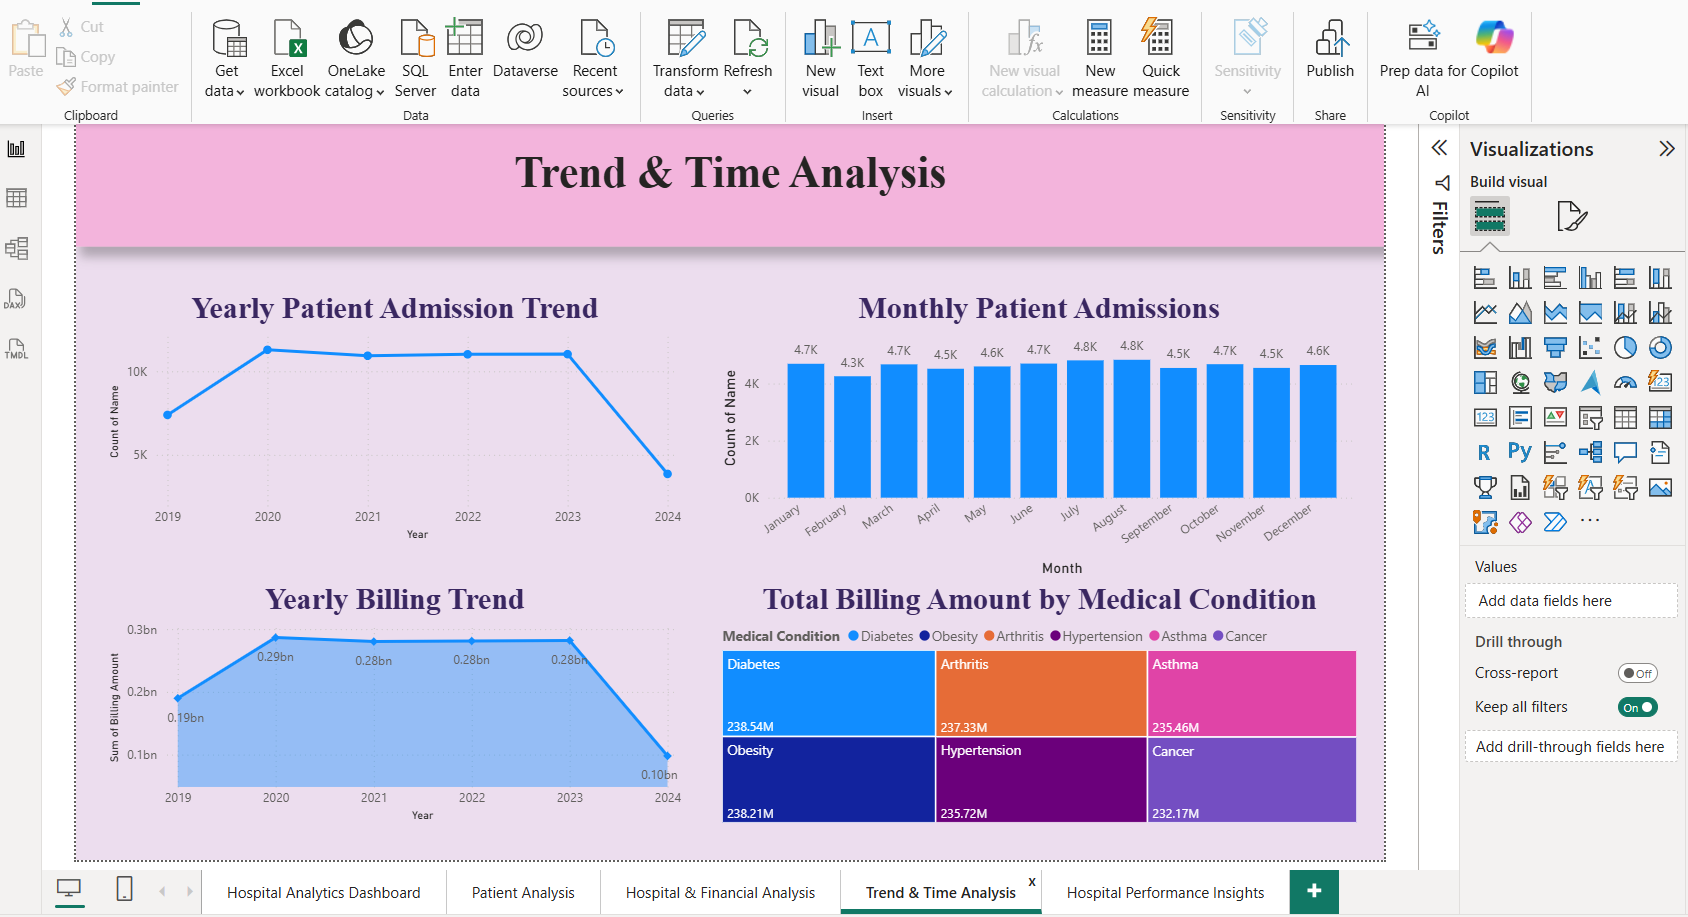

This screenshot's page, from the dashboard's own definition file:
{"tool":"powerbi","page":{"name":"Trend & Time Analysis","canvas":[1280,720],"ordinal":3},"visuals":[{"type":"shape","box":[0,119.8,1280.3,600.4],"z":0},{"type":"textbox","box":[0,0,1280,120],"z":1000},{"type":"clusteredColumnChart","title":"Monthly Patient Admissions","fields":{"Category":["healthcare_dataset.Date of Admission.Variation.Date Hierarchy.Month"],"Y":["CountNonNull(healthcare_dataset.Name)"]},"box":[627.3,162.6,629.8,284.9],"z":2000},{"type":"lineChart","title":"Yearly Patient Admission Trend","fields":{"Category":["healthcare_dataset.Date of Admission.Variation.Date Hierarchy.Year","healthcare_dataset.Date of Admission.Variation.Date Hierarchy.Quarter","healthcare_dataset.Date of Admission.Variation.Date Hierarchy.Month","healthcare_dataset.Date of Admission.Variation.Date Hierarchy.Day"],"Y":["CountNonNull(healthcare_dataset.Name)"]},"box":[27.5,162.5,570,250],"z":3000},{"type":"areaChart","title":"Yearly Billing Trend","fields":{"Category":["healthcare_dataset.Date of Admission.Variation.Date Hierarchy.Year","healthcare_dataset.Date of Admission.Variation.Date Hierarchy.Quarter","healthcare_dataset.Date of Admission.Variation.Date Hierarchy.Month","healthcare_dataset.Date of Admission.Variation.Date Hierarchy.Day"],"Y":["Sum(healthcare_dataset.Billing Amount)"]},"box":[27.5,447.5,570,240],"z":4000},{"type":"treemap","title":"Total Billing Amount by Medical Condition","fields":{"Group":["healthcare_dataset.Medical Condition"],"Values":["Sum(healthcare_dataset.Billing Amount)"]},"box":[627.3,447.6,631,240.9],"z":5000}]}

Visuals, with their boxes on the page's 1280x720 design canvas (x1, y1, x2, y2). These are canvas units, not pixel positions in the 1688x917 screenshot, which may show the page scaled, cropped or inside an application window:
shape: x1=0 y1=120 x2=1280 y2=720
textbox: x1=0 y1=0 x2=1280 y2=120
"Monthly Patient Admissions" clusteredColumnChart: x1=627 y1=163 x2=1257 y2=448
"Yearly Patient Admission Trend" lineChart: x1=28 y1=162 x2=598 y2=412
"Yearly Billing Trend" areaChart: x1=28 y1=448 x2=598 y2=688
"Total Billing Amount by Medical Condition" treemap: x1=627 y1=448 x2=1258 y2=688
